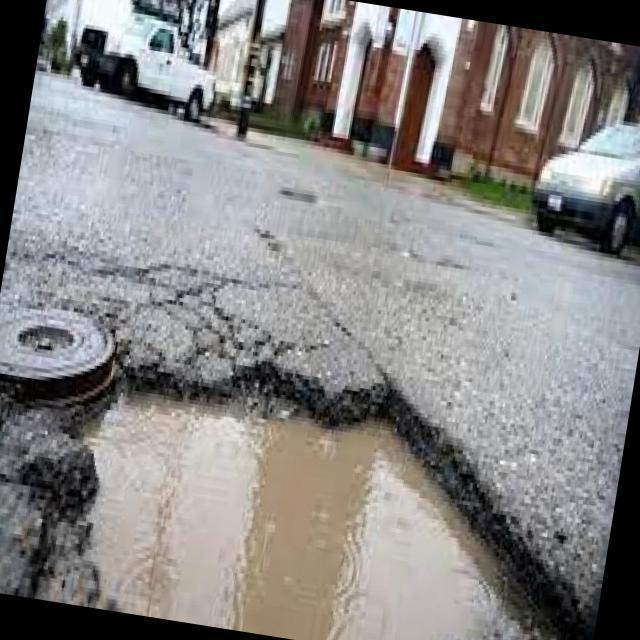pothole: (0, 378, 560, 640)
